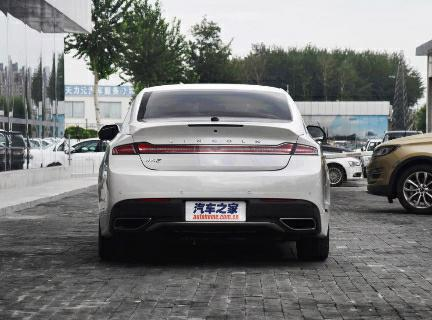林肯-MKZ: (91, 74, 336, 274)
